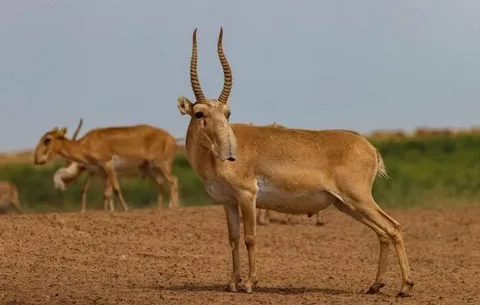saiga: (176, 25, 419, 299), (33, 123, 181, 214)
